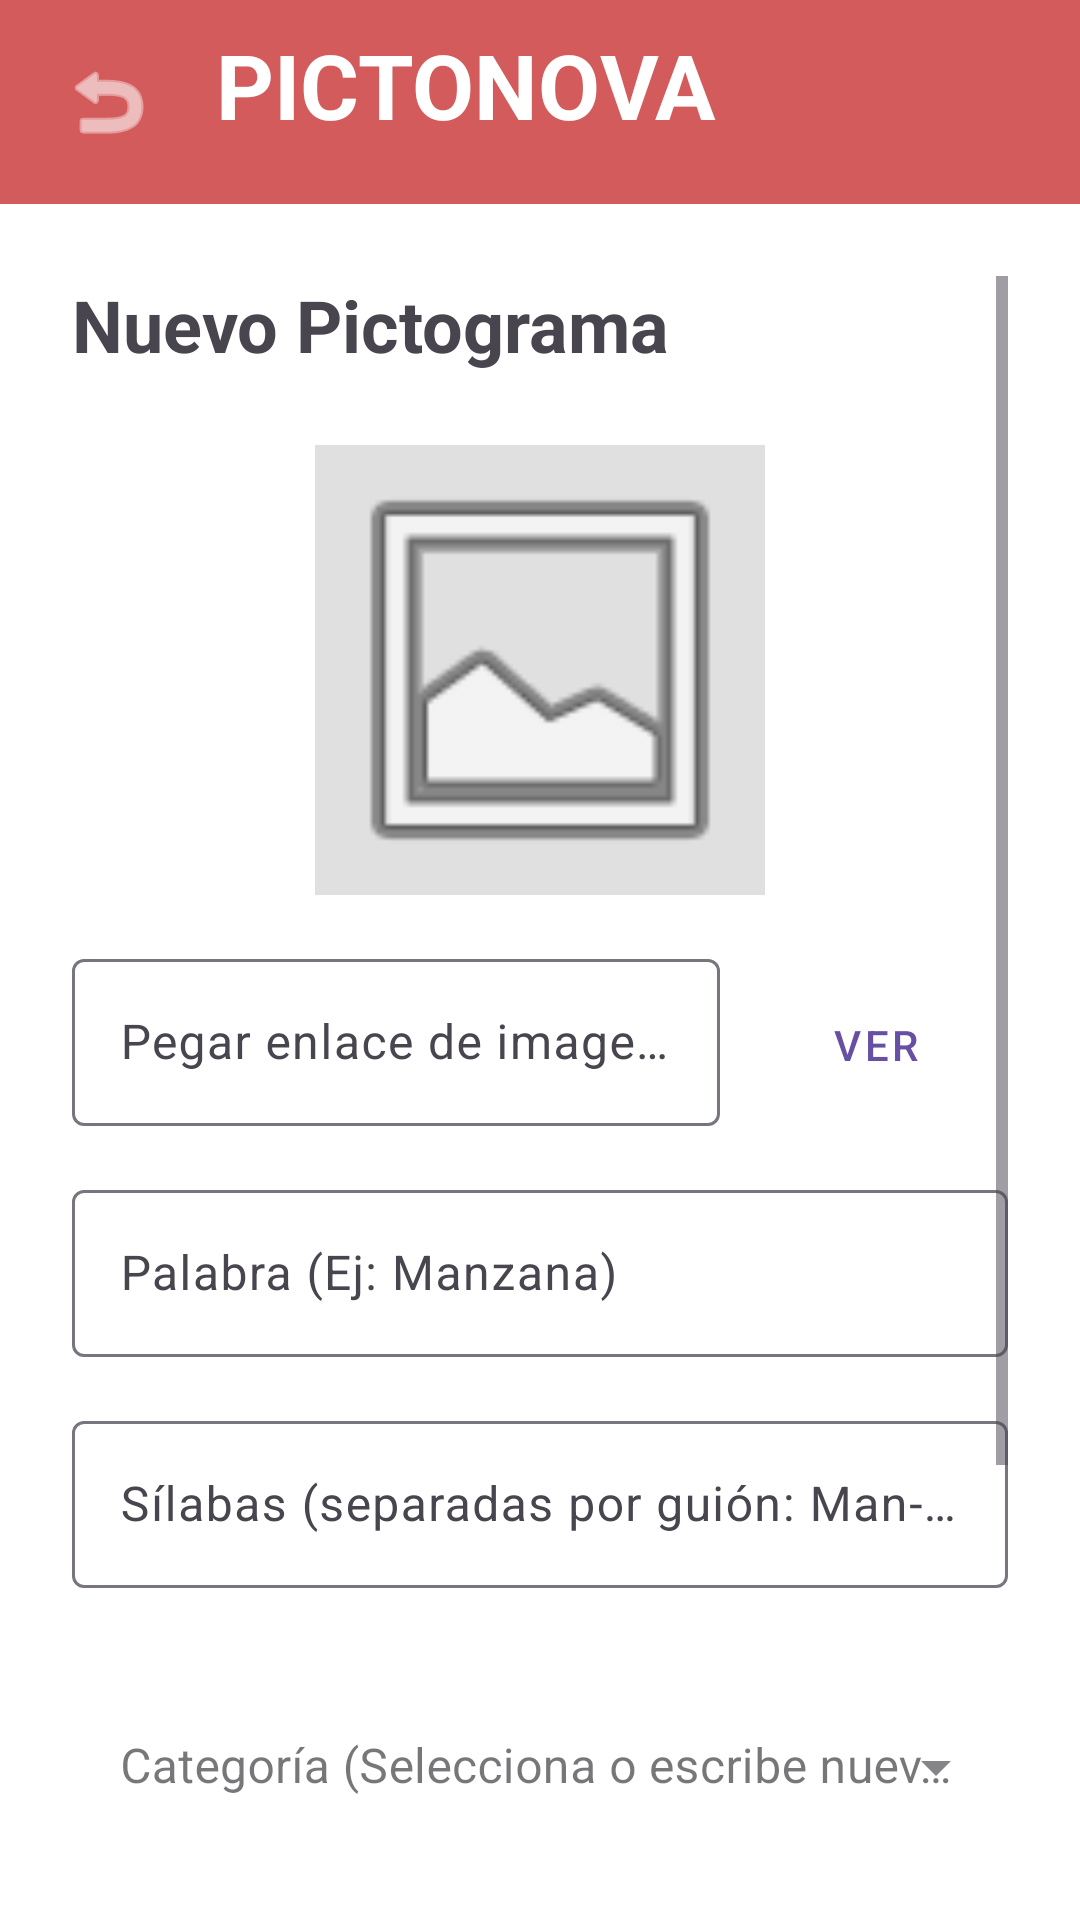

Screen size 1080*1920. Icon name, then its center in pixels as (x,y):
boton atras: (109,103)
